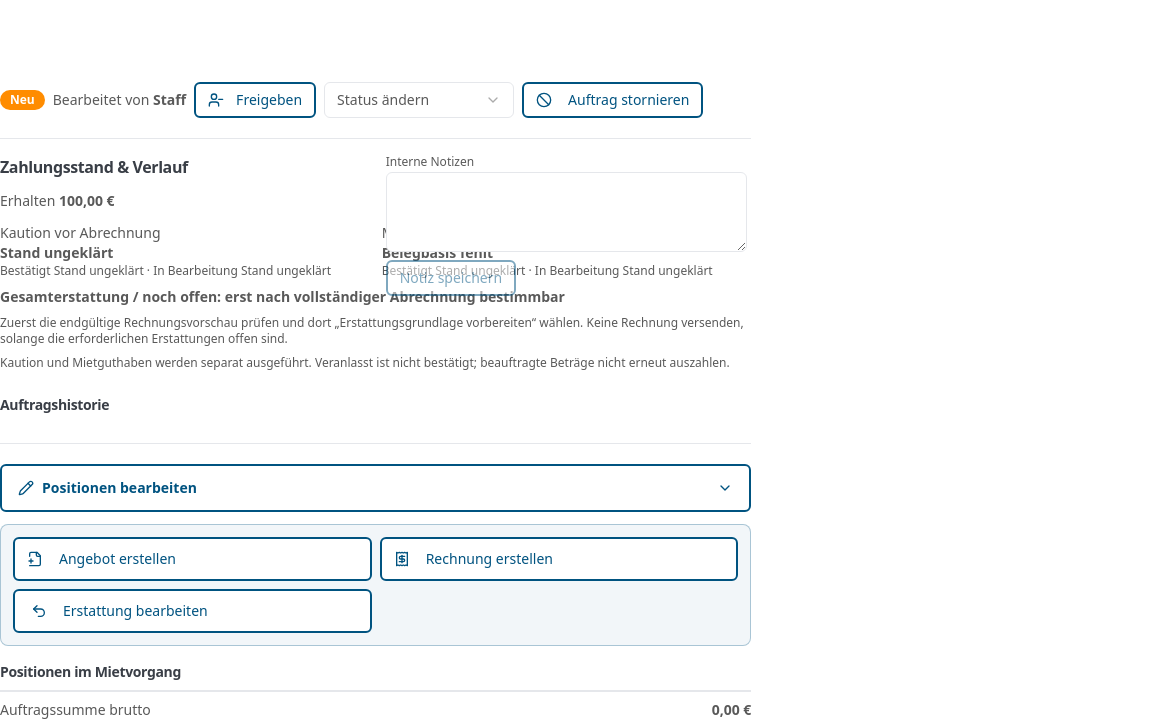
Test: rental document workspace › allows location staff to open deposit refunds in phase new without an offer
(page scrolled)
Click the button "Erstattung bearbeiten".
click(192, 611)  # box [13, 589, 372, 633]
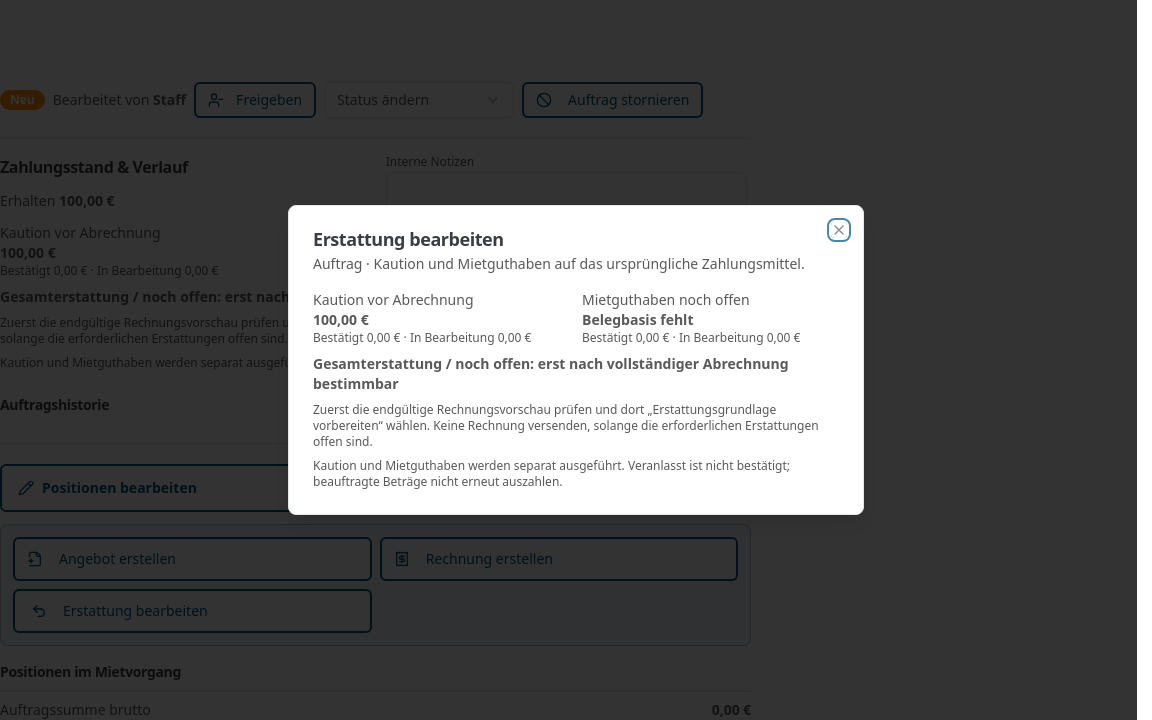
Result: the dialog is shown at [288, 205, 864, 515]
